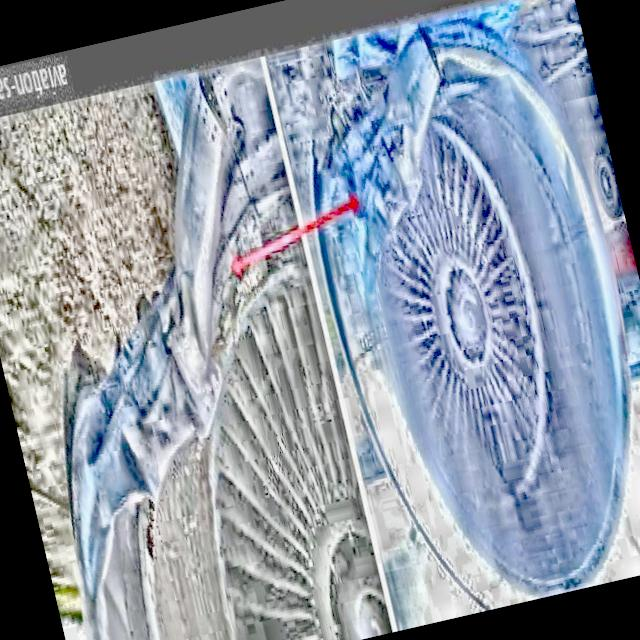dent: (77, 530, 138, 640), (108, 419, 166, 508)
